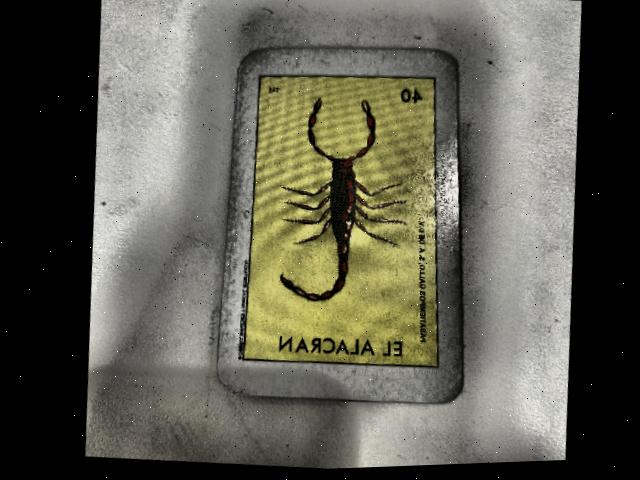El Alacran: (239, 78, 433, 372)
